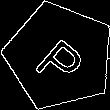P_NE: (28, 25, 91, 88)
